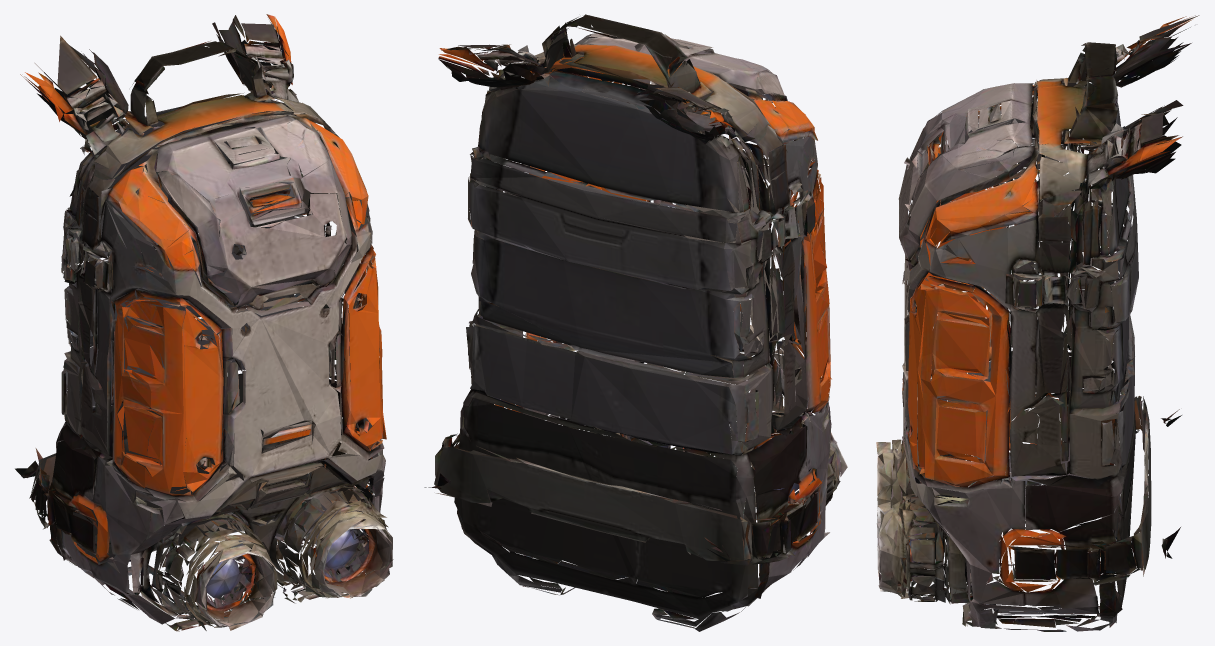
Rendered from jetpack.glb.
The picture shows the model from 3 angles, left to right: view 1: azimuth 30°, elevation 25°; view 2: azimuth 150°, elevation 25°; view 3: azimuth 270°, elevation 25°; orthographic projection. The views are drawn at different scales.
Parts seen in each view (by area): view 1: geometry_0; view 2: geometry_0; view 3: geometry_0.
Part boxes in pixels (x1,y1,x2,y2): geometry_0: (15, 14, 393, 631); geometry_0: (424, 14, 847, 631); geometry_0: (876, 15, 1199, 631).
Bounding box in the file's own units: 1.24 × 2.01 × 1.1.
1 material, 1 textured.
